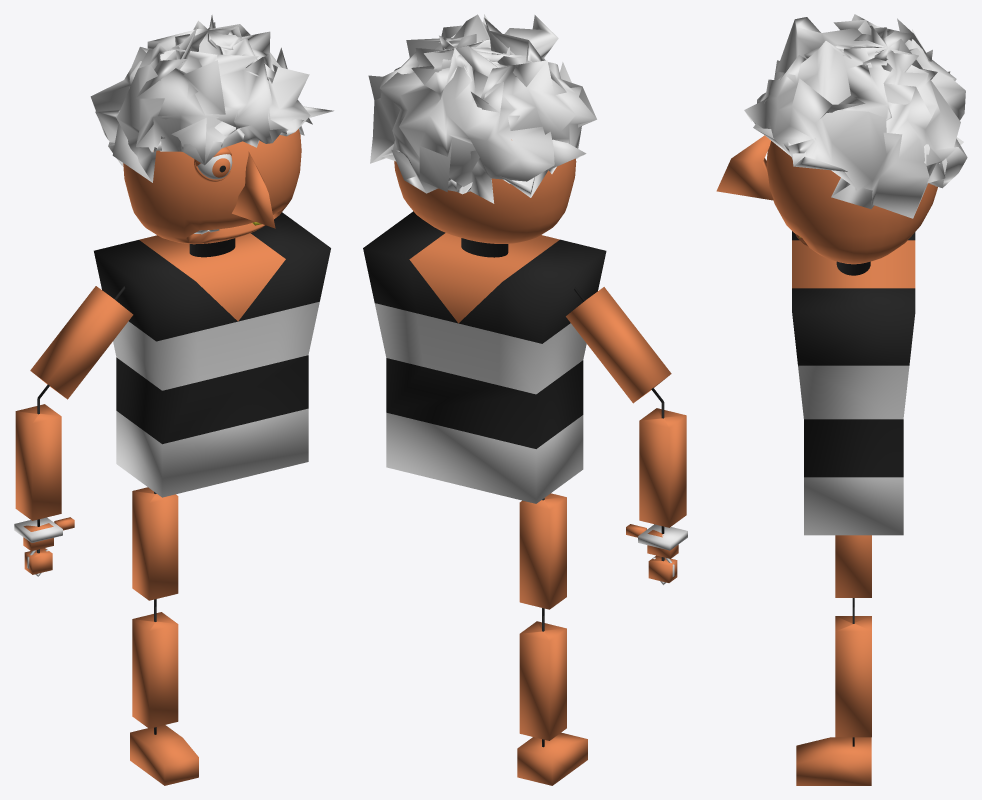
Rendered from Pirate4.fbx.
The picture shows the model from 3 angles, left to right: view 1: azimuth 30°, elevation 25°; view 2: azimuth 150°, elevation 25°; view 3: azimuth 270°, elevation 25°; orthographic projection. The views are drawn at different scales.
Parts seen in each view (by area): view 1: Body, Sphere, Head, HandTopR, HandBottomR, LegBottomR, LegTopR, FootR, Nose, PalmR.001, Eye, FingerR; view 2: Body, Sphere, Head, HandTopR, HandBottomR, LegBottomR, LegTopR, FootR, PalmR.001, FingerR; view 3: Body, Sphere, Head, LegBottomR, FootR, LegTopR, Nose.
Part boxes in pixels (x1,y1,x2,y2): Body: [94, 212, 330, 497]; Sphere: [90, 15, 333, 182]; Head: [123, 129, 301, 257]; HandTopR: [30, 286, 133, 399]; HandBottomR: [15, 398, 61, 520]; LegBottomR: [132, 606, 178, 728]; LegTopR: [132, 487, 178, 606]; FootR: [130, 725, 198, 785]; Nose: [232, 151, 275, 228]; PalmR.001: [14, 517, 62, 576]; Eye: [197, 154, 232, 179]; FingerR: [24, 548, 52, 574]; Body: [363, 211, 606, 503]; Sphere: [368, 14, 596, 203]; Head: [394, 139, 576, 257]; HandTopR: [566, 287, 671, 403]; HandBottomR: [639, 402, 686, 527]; LegBottomR: [519, 615, 566, 740]; LegTopR: [519, 493, 566, 615]; FootR: [517, 732, 587, 785]; PalmR.001: [638, 524, 687, 585]; FingerR: [648, 555, 677, 582]; Body: [792, 231, 915, 535]; Sphere: [744, 14, 967, 218]; Head: [766, 141, 937, 275]; LegBottomR: [835, 607, 871, 737]; FootR: [796, 737, 871, 785]; LegTopR: [835, 535, 871, 607]; Nose: [716, 135, 773, 200].
Bounding box in the file's own units: 362 × 877 × 255.
